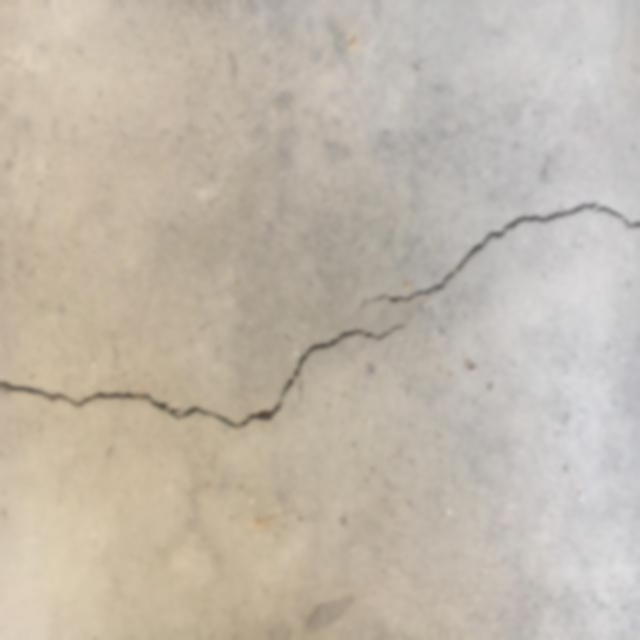SurfaceCrack: (1, 170, 640, 449)
